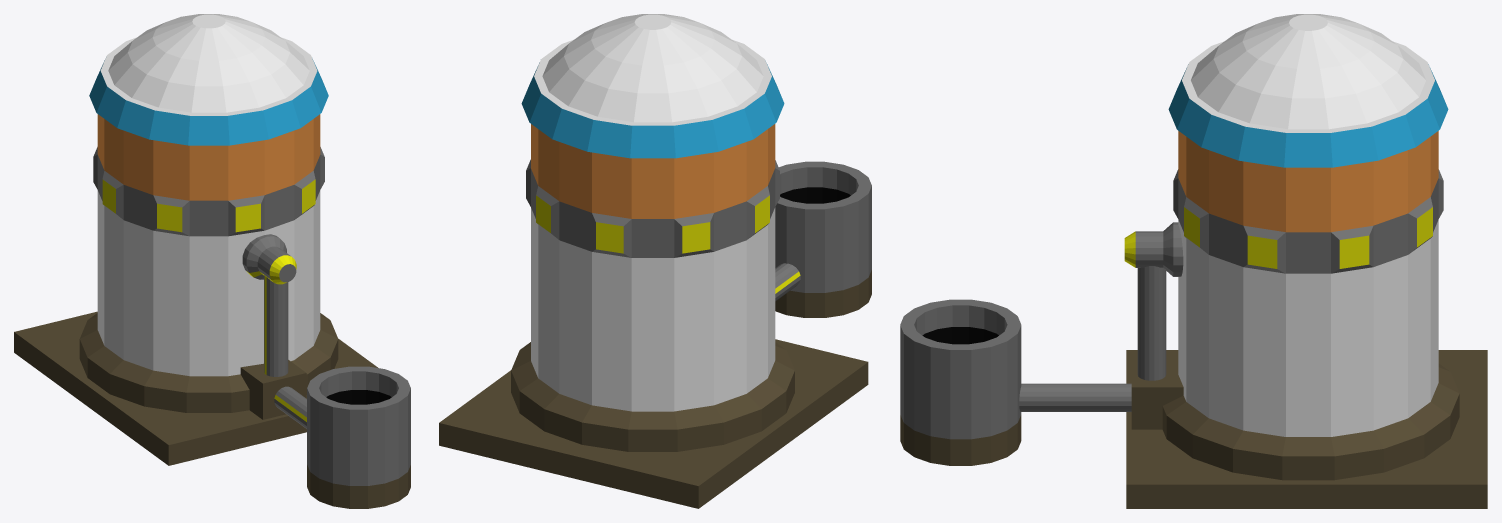
File: Silo.fbx
3 views of the same model, side by side, from view 1: azimuth 30°, elevation 25°; view 2: azimuth 150°, elevation 25°; view 3: azimuth 270°, elevation 25° (orthographic). The views are drawn at different scales.
Parts seen in each view (by area): view 1: Silo; view 2: Silo; view 3: Silo.
Part boxes in pixels (<box>): Silo: <box>14,14,410,508</box>; Silo: <box>439,14,871,508</box>; Silo: <box>900,14,1487,508</box>.
Size of the model in its own units: 245 by 355 by 452.
